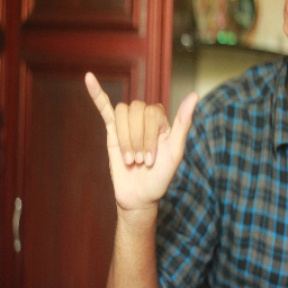J: (83, 72, 202, 206)
